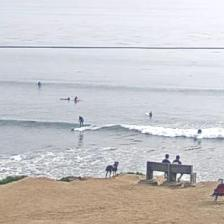surfer: (78, 116, 84, 126), (60, 96, 70, 100), (74, 96, 80, 101), (197, 129, 202, 134), (38, 81, 42, 86), (149, 112, 152, 118)
